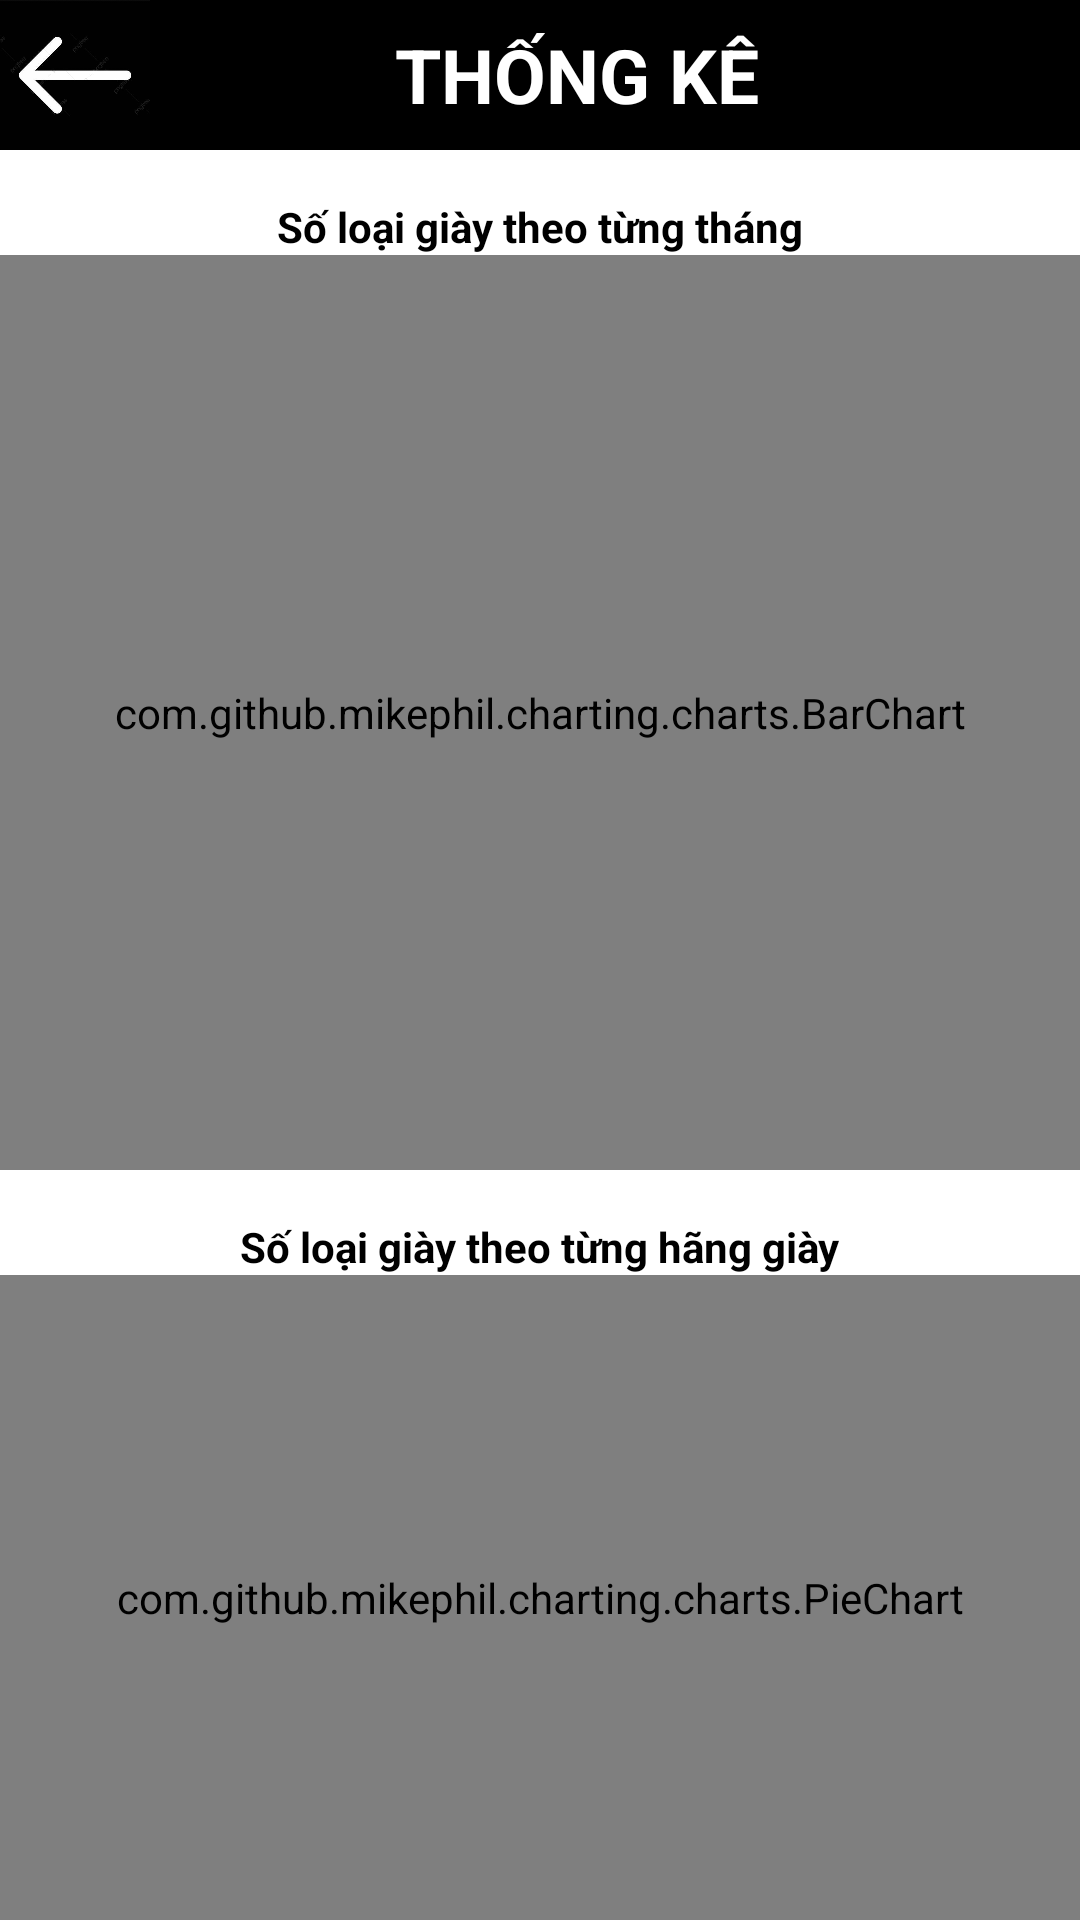

Locate icon controls on the screen. Image size 1080 x 1920, boxes as bbox=(x1, y1, x2, y2).
muiten: bbox=(1, 37, 150, 114)
